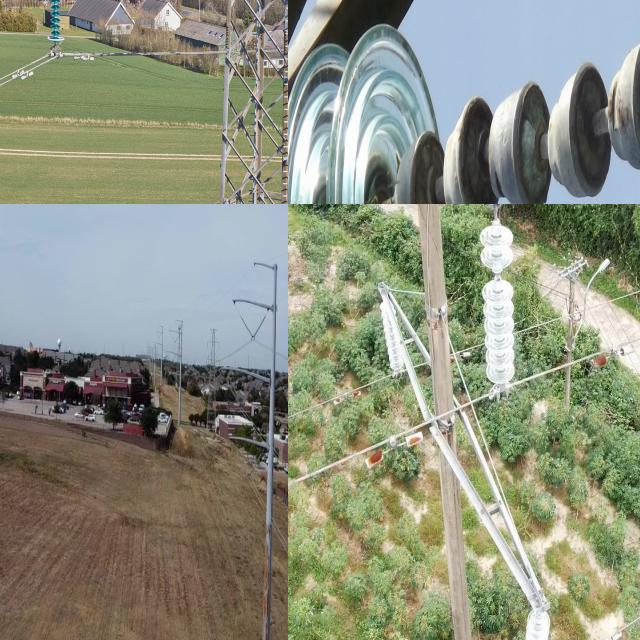杆塔: (367, 204, 560, 640), (218, 0, 288, 204), (204, 326, 221, 439)
正常绝缘子: (288, 0, 640, 204), (470, 205, 527, 398), (379, 284, 397, 380), (45, 0, 77, 49), (520, 604, 551, 640), (235, 305, 259, 348), (246, 311, 272, 350)
绝缘子破损: (565, 49, 630, 198), (507, 82, 566, 204), (451, 94, 503, 204), (410, 122, 457, 204), (491, 270, 504, 281)
